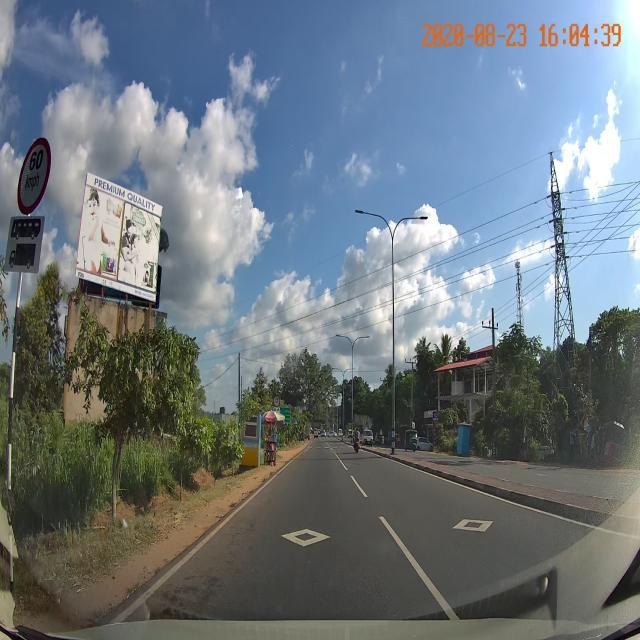diamond: (180, 504, 424, 570)
